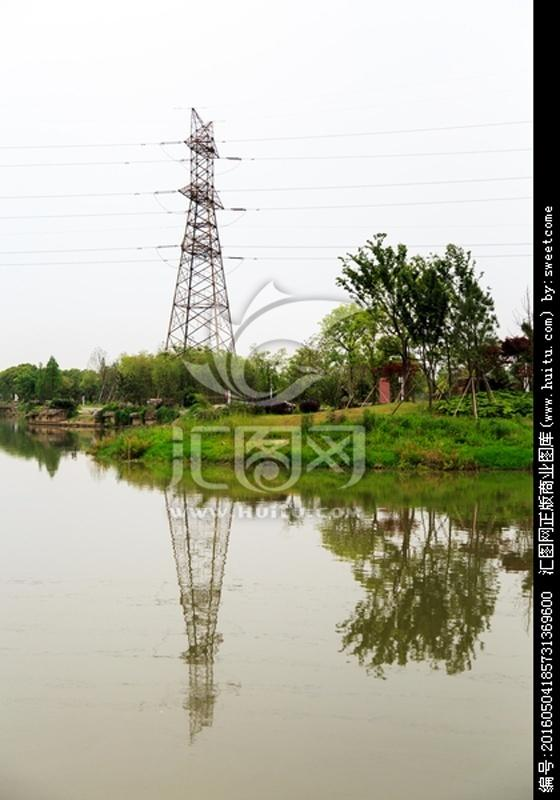power_tower: (154, 99, 243, 397)
